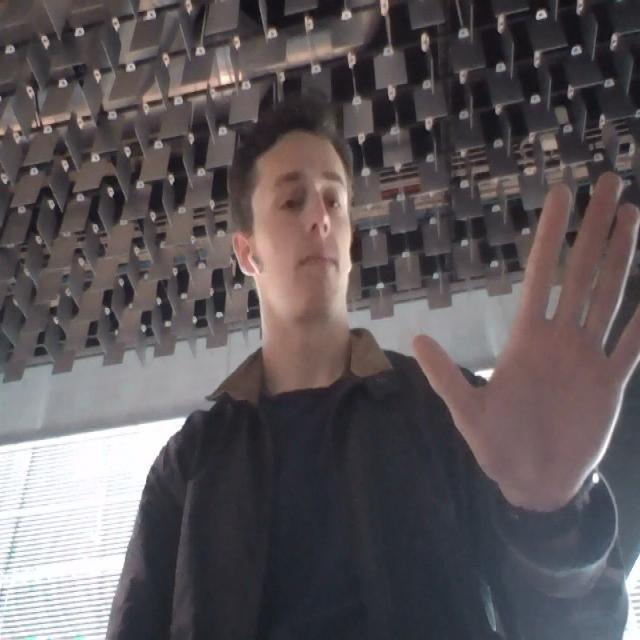backward: (410, 117, 638, 489)
